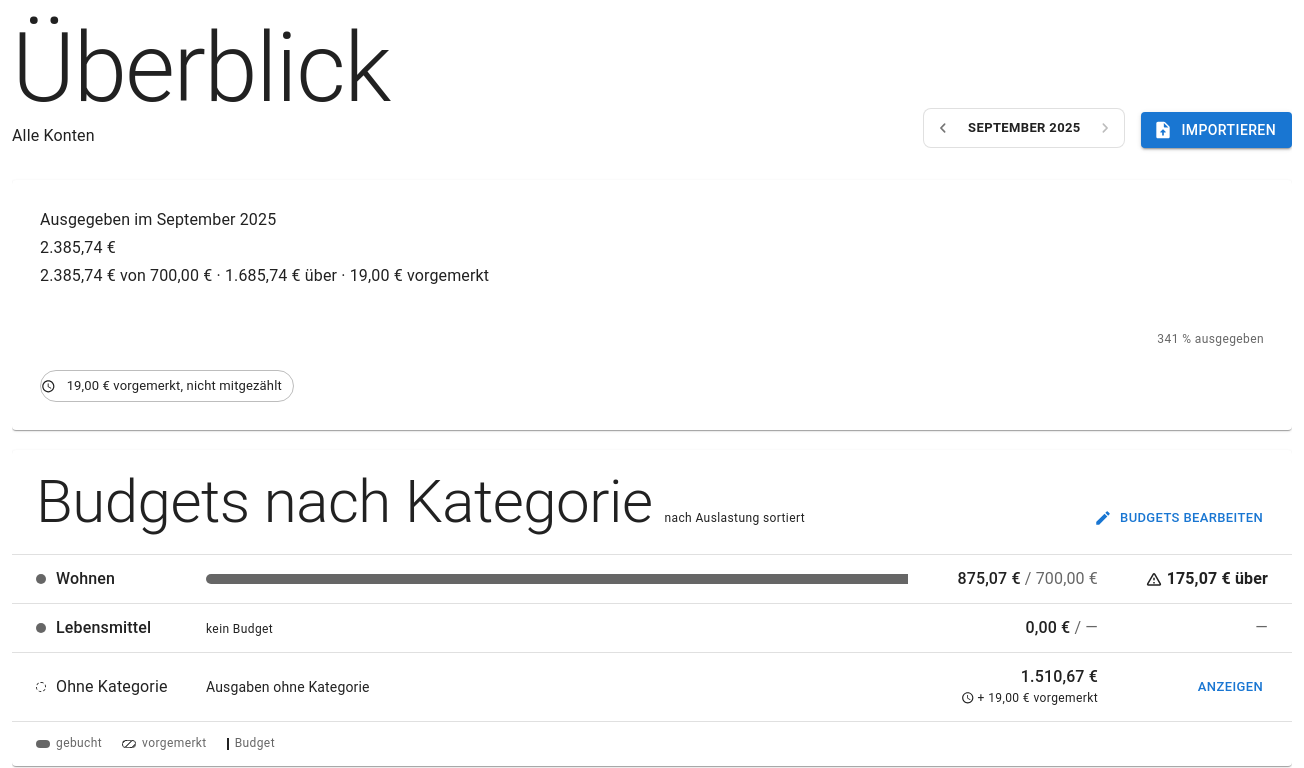
Test: OverviewPage › surfaces a failed write in the one alert and keeps the previous number
The width and height of the screenshot is (1304, 768).
Click the button "Budgets bearbeiten" at (1180, 518), box [1091,503,1268,534]
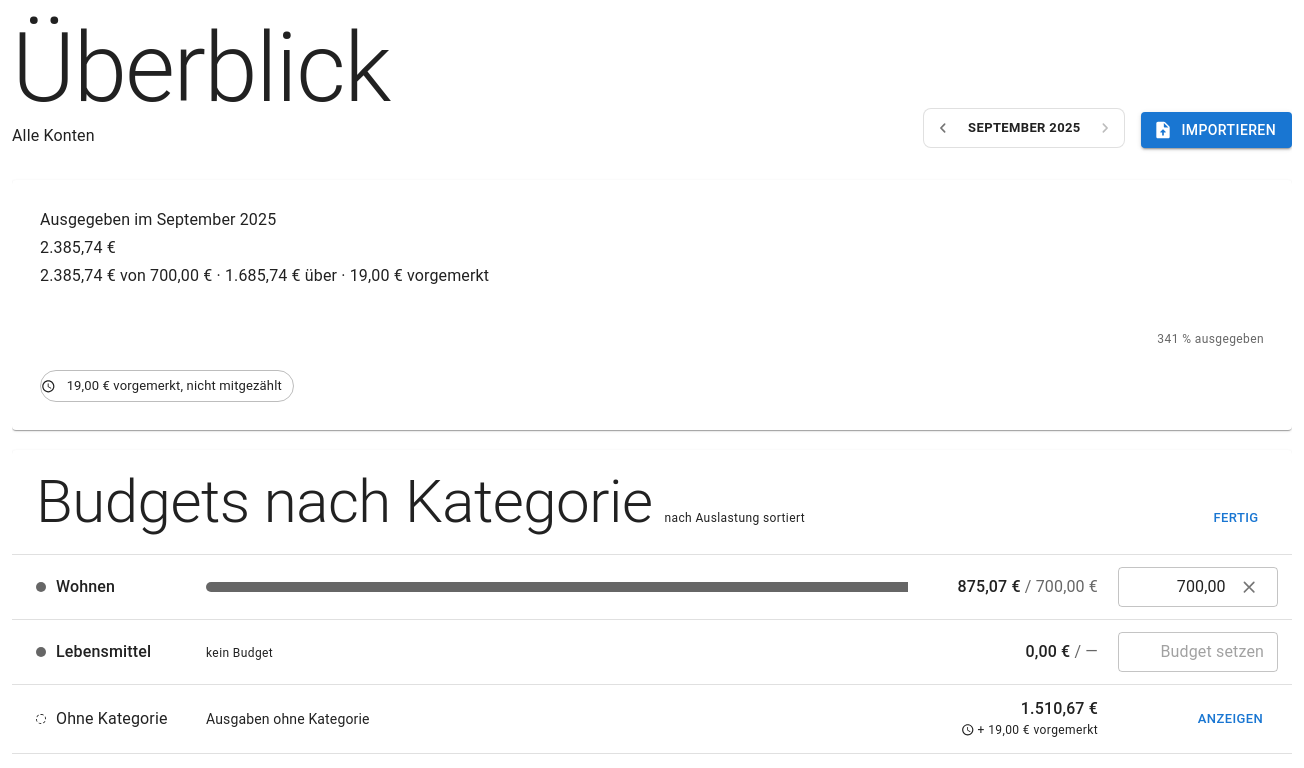
Check: the field named "Budget Wohnen" is shown
Replace the text in the field named "Budget Wohnen" with "900" at (1172, 587), box [1118,567,1226,607]
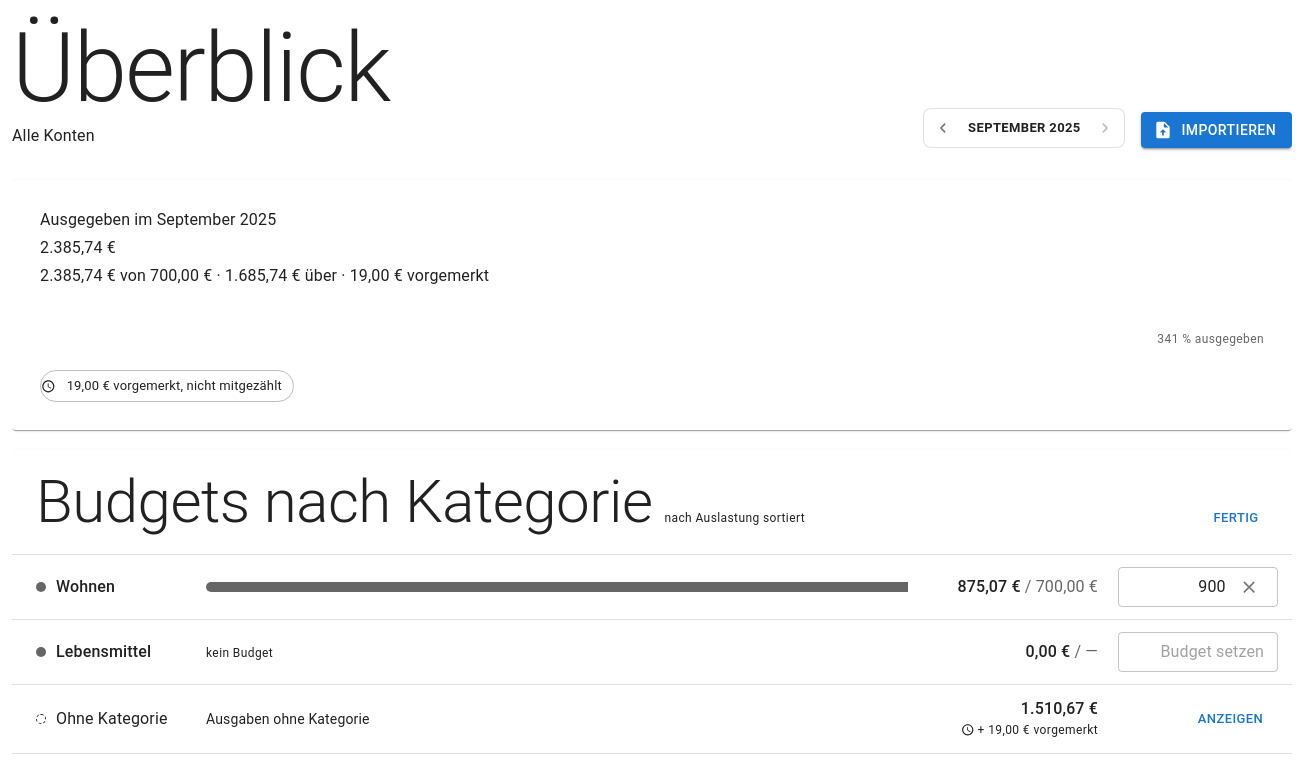
Leave the field named "Budget Wohnen", box [1118,567,1226,607]
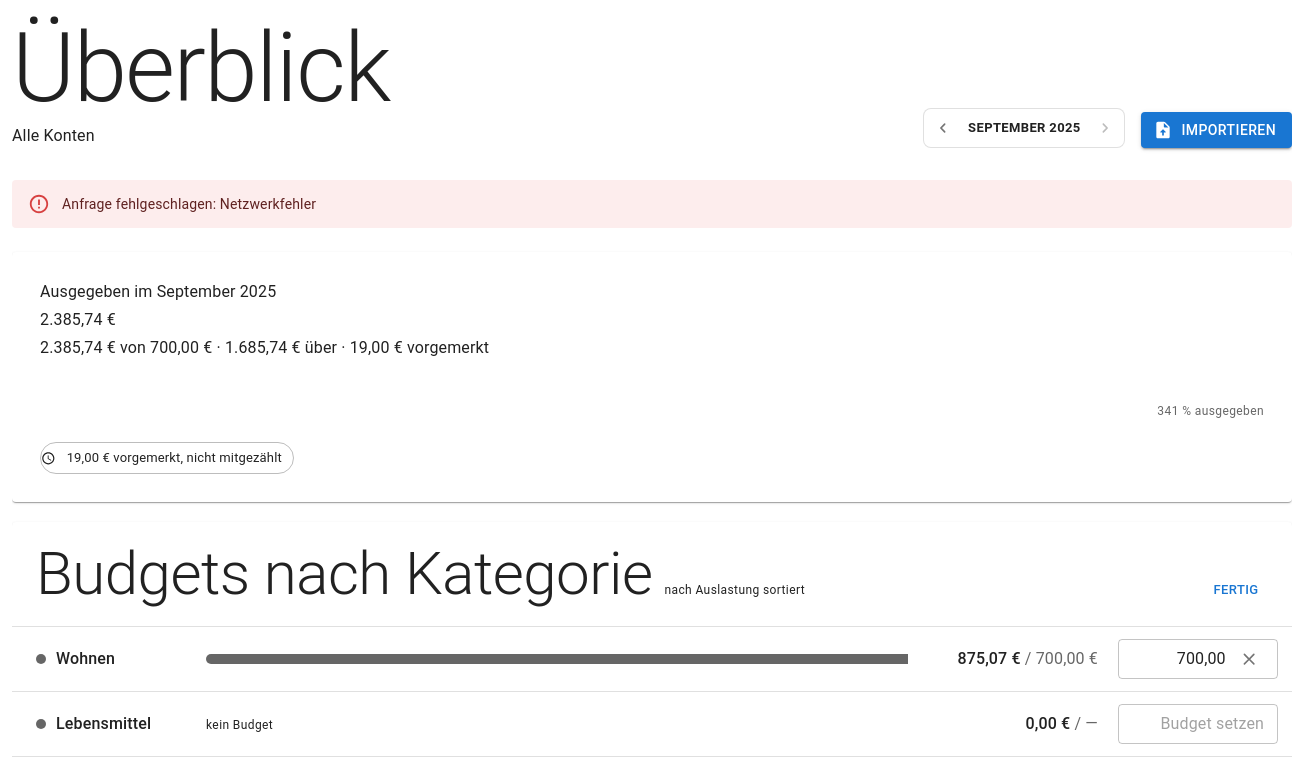
Check: the message shows "Netzwerkfehler", box [62,196,316,212]
Check: the field named "Budget Wohnen" holds "700,00", box [1118,639,1226,679]
